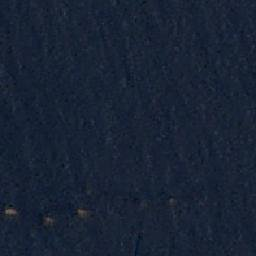debris: (167, 197, 176, 218), (4, 205, 18, 217), (78, 206, 90, 220), (42, 214, 55, 225)
